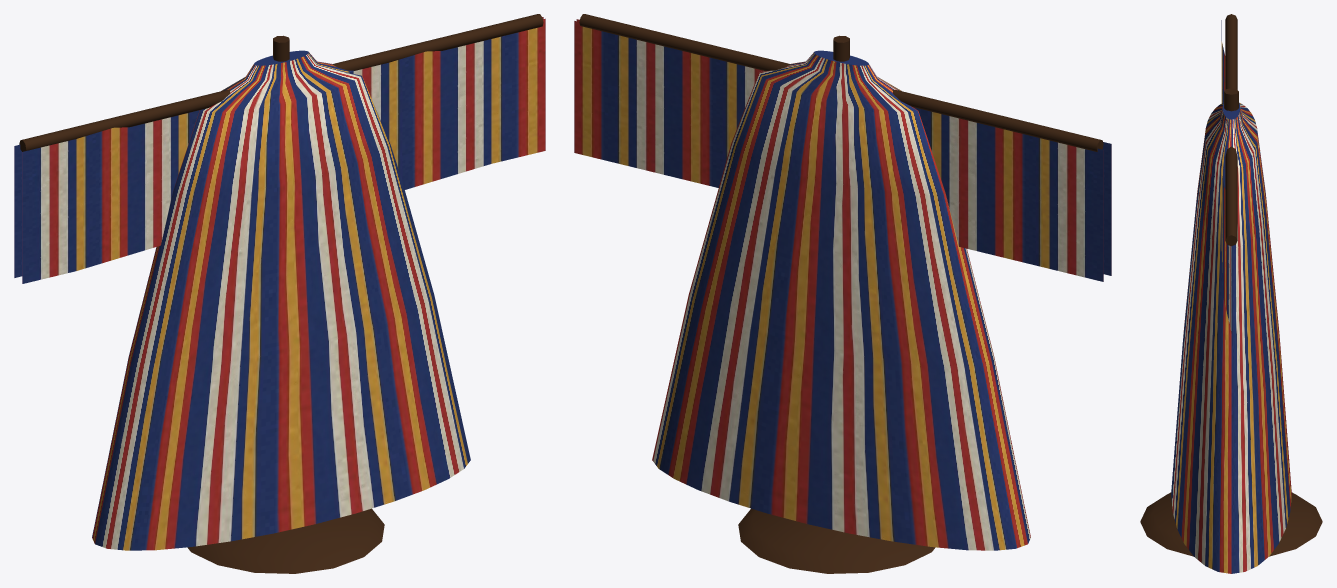
The model's file is faso-dan-fani.glb.
3 views of the same model, side by side, from view 1: azimuth 30°, elevation 25°; view 2: azimuth 150°, elevation 25°; view 3: azimuth 270°, elevation 25° (orthographic). The views are drawn at different scales.
Visible parts, largest first — view 1: faso-dan-fani; view 2: faso-dan-fani; view 3: faso-dan-fani.
Part boxes in pixels (left/top/right/bottom): faso-dan-fani: left=14, top=14, right=545, bottom=573; faso-dan-fani: left=574, top=14, right=1111, bottom=573; faso-dan-fani: left=1140, top=14, right=1322, bottom=573.
Bounding box in the file's own units: 1.76 × 1.56 × 0.6.
2 materials, 1 textured.
